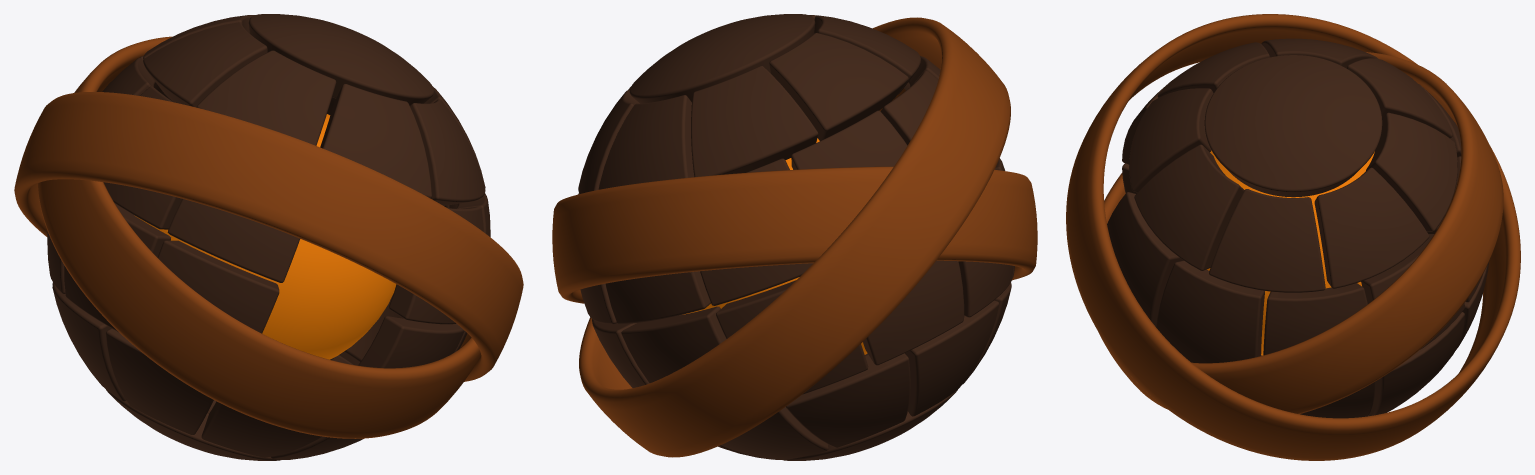
File: hero.glb
3 renders of one model, left to right at view 1: azimuth 30°, elevation 25°; view 2: azimuth 150°, elevation 25°; view 3: azimuth 270°, elevation 25°, orthographic. The views are drawn at different scales.
Visible parts, largest first — view 1: Ribbon_B, Ribbon_A, Core, Shell_Top_cap, Shell_Top_b1_7, Shell_Top_b1_0, Shell_Top_b1_6, Shell_Top_b0_9, Shell_Bottom_b1_7, Shell_Bottom_b0_9, Shell_Top_b1_1, Shell_Bottom_b0_1 (+11 smaller); view 2: Ribbon_B, Ribbon_A, Shell_Top_b1_5, Shell_Top_b1_6, Shell_Top_cap, Shell_Bottom_b1_5, Shell_Top_b1_4, Shell_Bottom_b0_7, Shell_Bottom_b1_6, Shell_Bottom_b0_5, Shell_Top_b0_5, Shell_Top_b0_7 (+11 smaller); view 3: Ribbon_B, Ribbon_A, Shell_Top_cap, Shell_Top_b1_2, Shell_Top_b1_3, Shell_Top_b0_2, Shell_Top_b1_1, Shell_Top_b1_4, Shell_Top_b1_0, Shell_Top_b0_1, Shell_Top_b0_3, Shell_Top_b1_5 (+8 smaller).
Boxes of the visible parts, x1,y1,x2,y2 form: Ribbon_B: (14,92,523,381); Ribbon_A: (38,36,480,438); Core: (134,114,396,359); Shell_Top_cap: (248,14,434,105); Shell_Top_b1_7: (196,50,336,145); Shell_Top_b1_0: (320,84,432,198); Shell_Top_b1_6: (143,22,267,107); Shell_Top_b0_9: (167,199,299,282); Shell_Bottom_b1_7: (105,328,213,434); Shell_Bottom_b0_9: (157,240,279,333); Shell_Top_b1_1: (410,99,485,205); Shell_Bottom_b0_1: (358,316,464,368); Ribbon_B: (579,17,1010,457); Ribbon_A: (552,166,1037,303); Shell_Top_b1_5: (691,66,818,176); Shell_Top_b1_6: (769,33,908,140); Shell_Top_cap: (629,14,815,103); Shell_Bottom_b1_5: (786,353,910,447); Shell_Top_b1_4: (598,95,694,189); Shell_Bottom_b0_7: (863,260,964,365); Shell_Bottom_b1_6: (905,300,999,416); Shell_Bottom_b0_5: (621,306,726,382); Shell_Top_b0_5: (605,271,710,324); Shell_Top_b0_7: (791,110,907,169); Ribbon_B: (1066,14,1520,460); Ribbon_A: (1098,52,1503,414); Shell_Top_cap: (1204,55,1382,197); Shell_Top_b1_2: (1209,189,1325,292); Shell_Top_b1_3: (1314,167,1429,288); Shell_Top_b0_2: (1156,260,1264,363); Shell_Top_b1_1: (1134,144,1244,270); Shell_Top_b1_4: (1366,112,1457,231); Shell_Top_b1_0: (1129,88,1213,192); Shell_Top_b0_1: (1107,192,1183,326); Shell_Top_b0_3: (1263,283,1367,355); Shell_Top_b1_5: (1347,58,1452,138).
Bounding box in the file's own units: 2.18 × 2.03 × 2.31.
